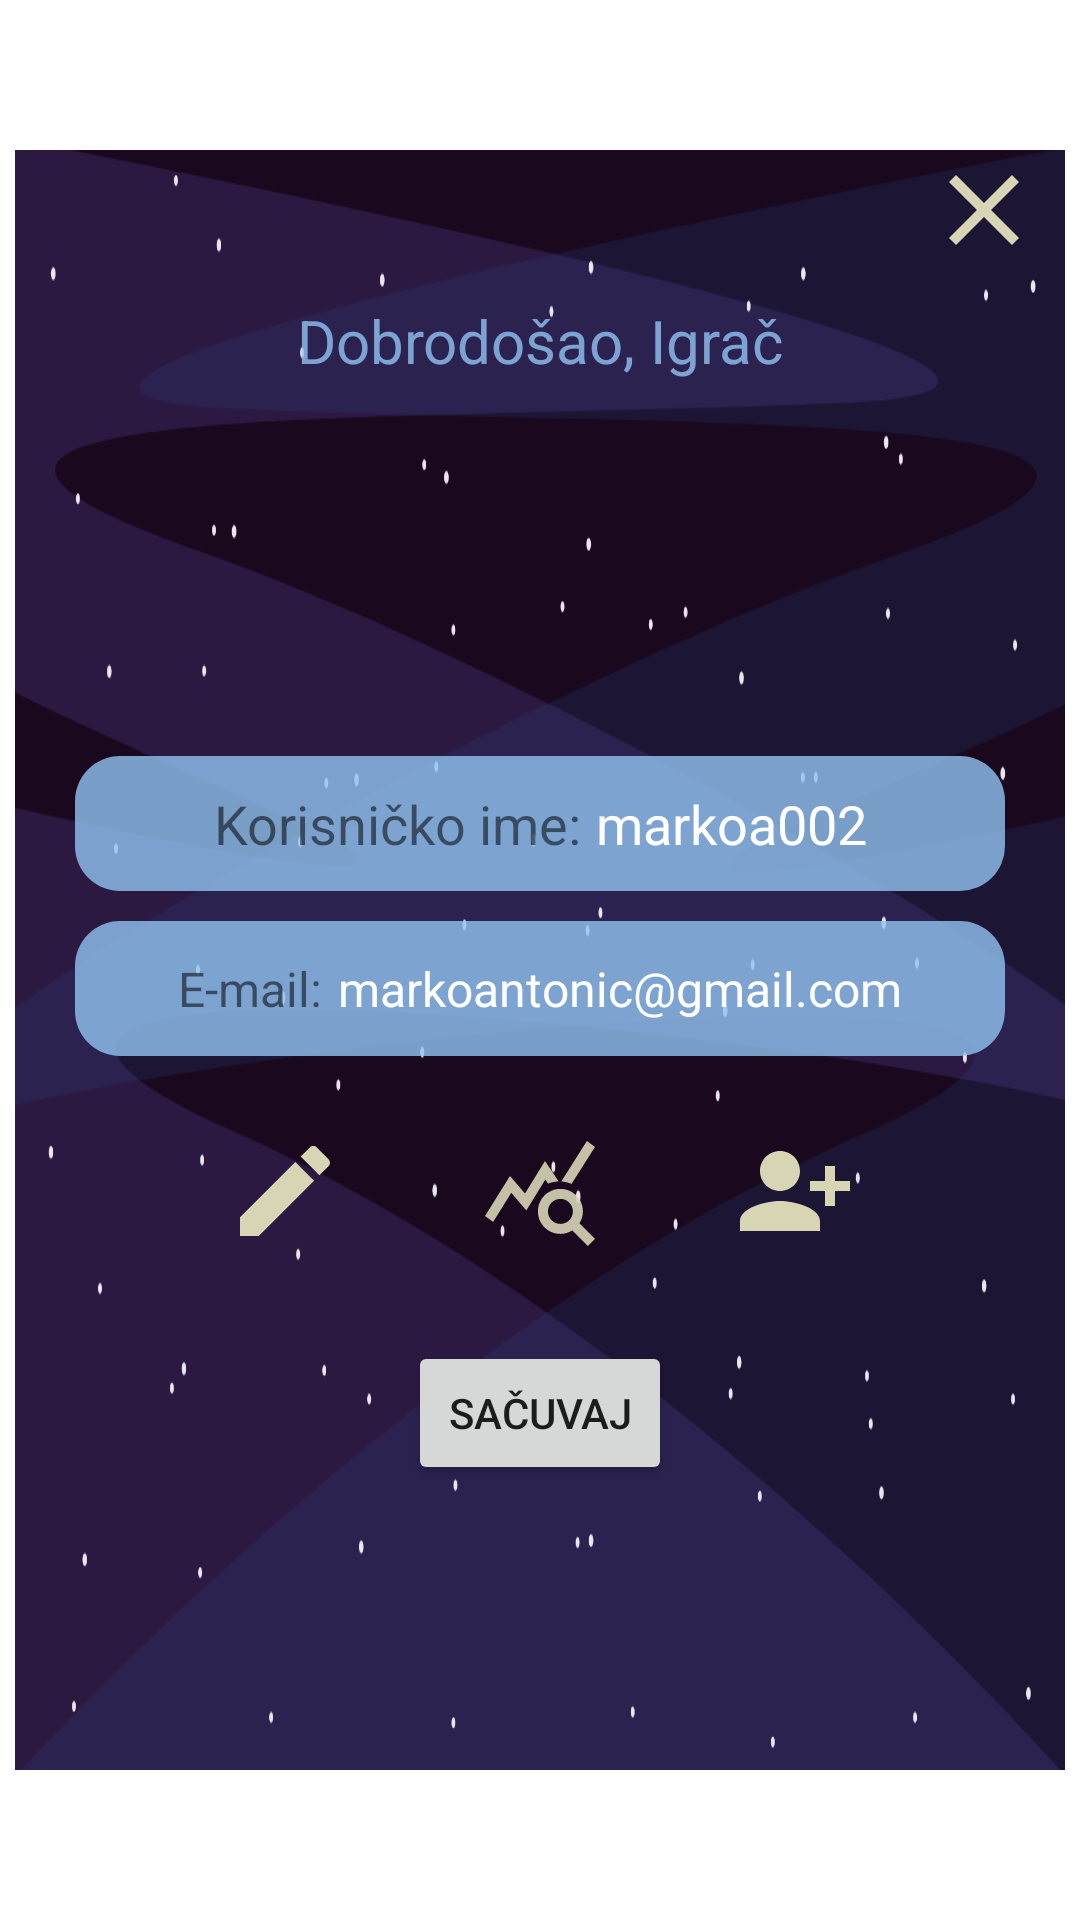

Screen size 1080px×1920px. Icon name, then its box in pixels as (x1, y1, x2, y2):
add friend: (740, 1151, 850, 1231)
close: (949, 175, 1019, 245)
edit: (235, 1131, 345, 1251)
stats: (485, 1141, 595, 1246)
